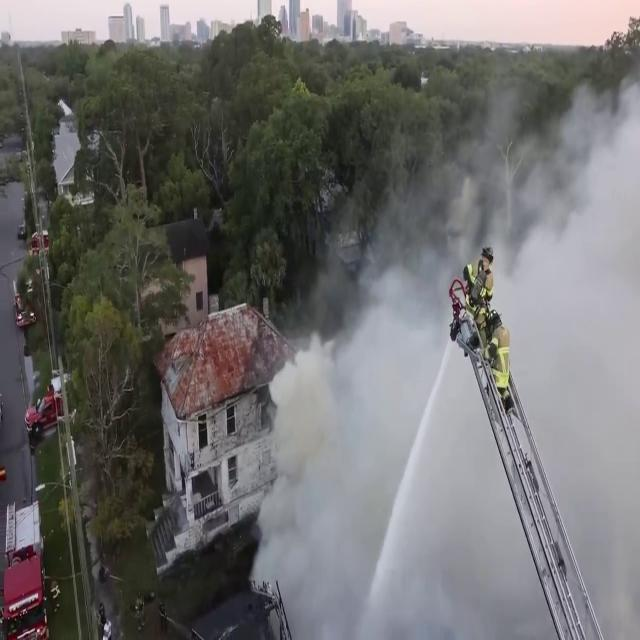Smoke: (277, 403, 528, 640)
